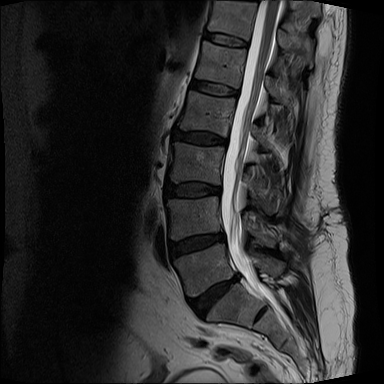Degenerative Disc Disease (DDD): (165, 224, 228, 265)
Lumbar Disc Bulge (LDB): (179, 264, 249, 326)
Normal IVD: (154, 176, 225, 204), (184, 70, 242, 103), (171, 122, 228, 151), (200, 29, 250, 51)
